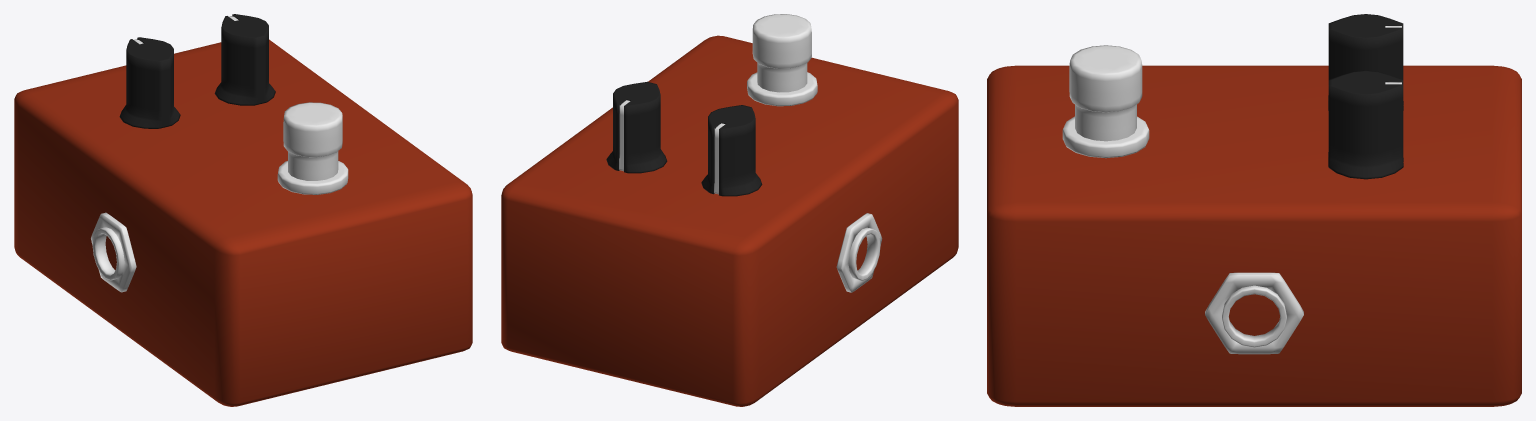
File: pedal.glb
The picture shows the model from 3 angles, left to right: view 1: azimuth 30°, elevation 25°; view 2: azimuth 150°, elevation 25°; view 3: azimuth 270°, elevation 25°; orthographic projection. The views are drawn at different scales.
Parts seen in each view (by area): view 1: Body, Knob, StompButton, Input; view 2: Body, Knob, StompButton, Input; view 3: Body, Knob, StompButton, Input.
Part boxes in pixels (left/top/right/bottom): Body: left=14, top=39, right=472, bottom=406; Knob: left=119, top=14, right=275, bottom=128; StompButton: left=277, top=102, right=348, bottom=194; Input: left=91, top=212, right=136, bottom=292; Body: left=501, top=35, right=958, bottom=406; Knob: left=606, top=81, right=762, bottom=196; StompButton: left=747, top=14, right=817, bottom=106; Input: left=836, top=213, right=882, bottom=292; Body: left=987, top=65, right=1521, bottom=406; Knob: left=1328, top=14, right=1403, bottom=179; StompButton: left=1062, top=45, right=1149, bottom=158; Input: left=1205, top=272, right=1303, bottom=354.
Bounding box in the file's own units: 0.0869 × 0.07 × 0.12.
